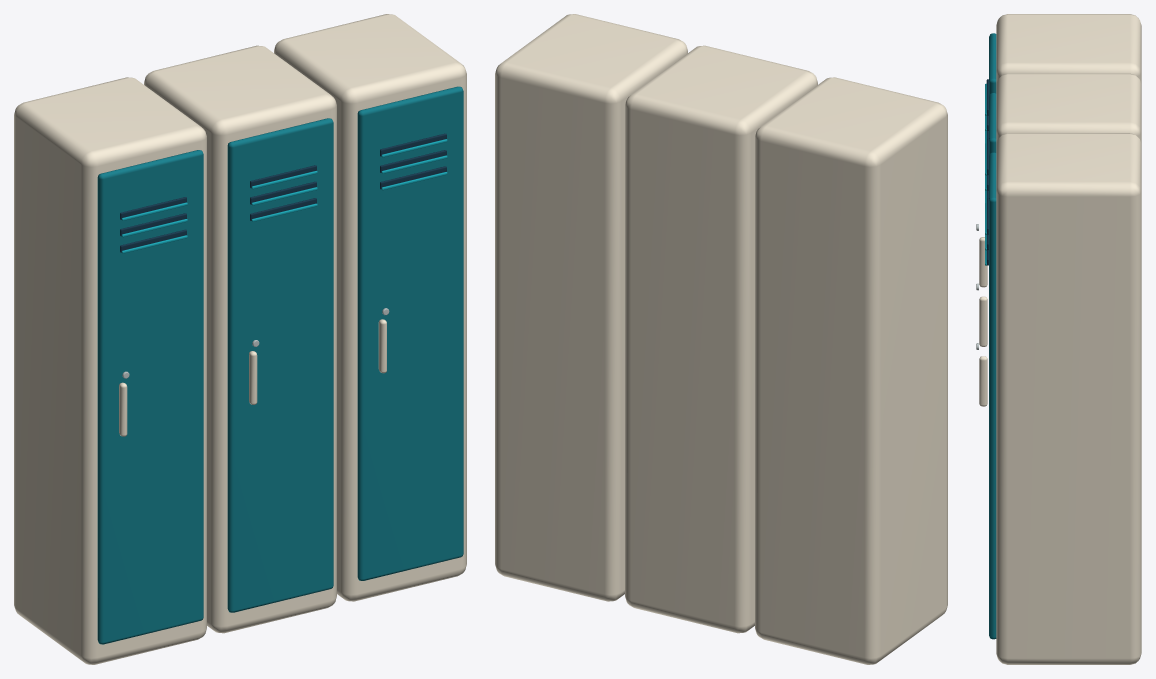
The model's file is Lounge_Locker_Bank_3.glb.
3 views of the same model, side by side, from view 1: azimuth 30°, elevation 25°; view 2: azimuth 150°, elevation 25°; view 3: azimuth 270°, elevation 25° (orthographic). The views are drawn at different scales.
Visible parts, largest first — view 1: Lounge_Locker_Bank_3__Visual; view 2: Lounge_Locker_Bank_3__Visual; view 3: Lounge_Locker_Bank_3__Visual.
Boxes of the visible parts, x1,y1,x2,y2 form: Lounge_Locker_Bank_3__Visual: (14, 14, 466, 664); Lounge_Locker_Bank_3__Visual: (495, 14, 947, 664); Lounge_Locker_Bank_3__Visual: (976, 14, 1141, 664).
Size of the model in its own units: 1.45 by 1.85 by 0.574.
Materials: 1 (1 with a texture image).
